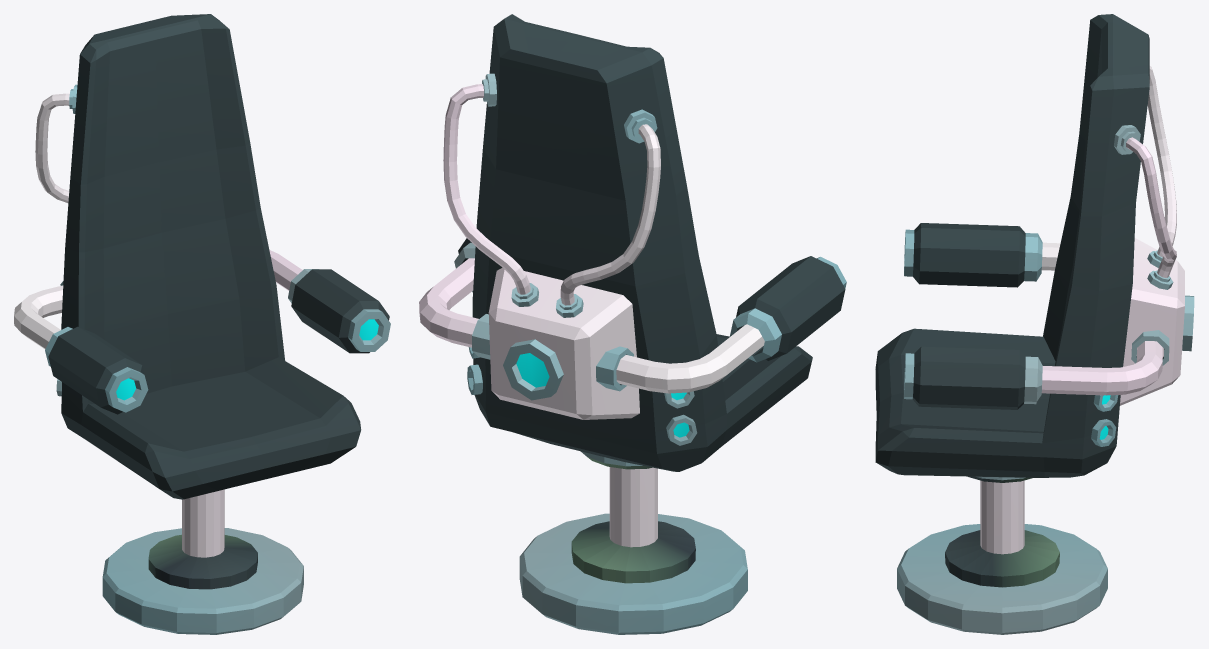
Rendered from Chair.fbx.
The picture shows the model from 3 angles, left to right: view 1: azimuth 30°, elevation 25°; view 2: azimuth 150°, elevation 25°; view 3: azimuth 270°, elevation 25°; orthographic projection. The views are drawn at different scales.
Parts seen in each view (by area): view 1: Chair; view 2: Chair; view 3: Chair.
Part boxes in pixels (x1,y1,x2,y2): Chair: (14,14,390,634); Chair: (419,14,846,634); Chair: (875,14,1194,634).
Bounding box in the file's own units: 74.24 × 127 × 67.09.
